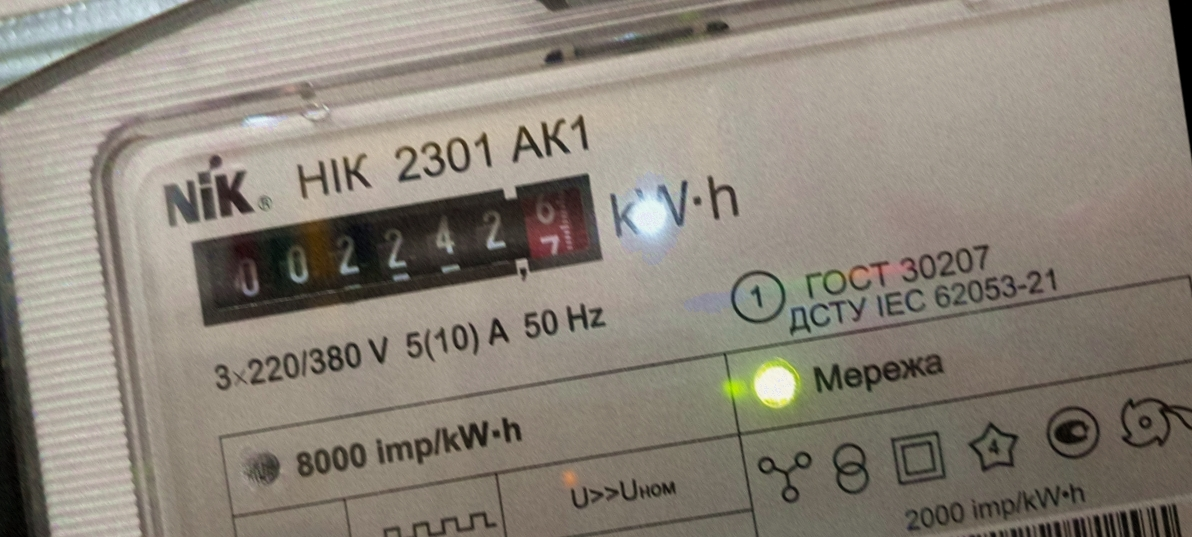0: (282, 237, 313, 283), (333, 228, 363, 274), (235, 250, 264, 297)
2: (381, 221, 411, 268), (479, 203, 509, 250)
4: (430, 209, 459, 255)
6: (531, 187, 560, 223)
7: (538, 229, 564, 255)
screen: (179, 157, 623, 340)
